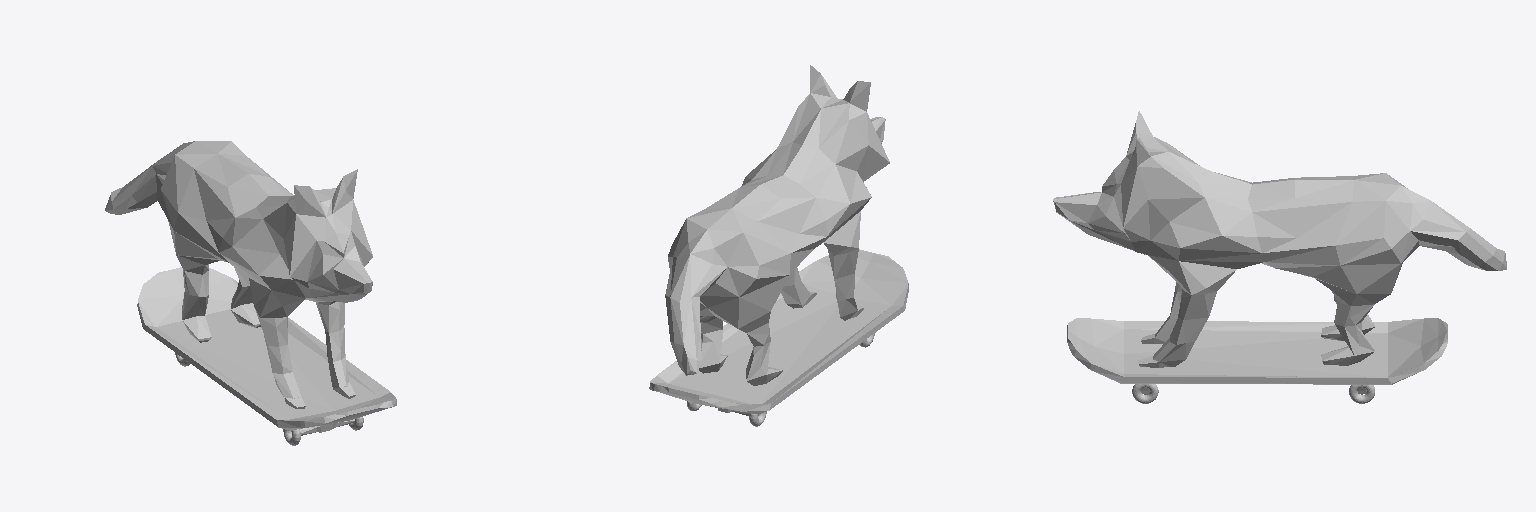
Rendered from WaschbaerSchritt4.obj.
3 renders of one model, left to right at view 1: azimuth 30°, elevation 25°; view 2: azimuth 150°, elevation 25°; view 3: azimuth 270°, elevation 25°, orthographic.
Visible parts, largest first — view 1: initialShadingGroup pCube1 polySurface1, initialShadingGroup pCube2 polySurface1; view 2: initialShadingGroup pCube1 polySurface1, initialShadingGroup pCube2 polySurface1; view 3: initialShadingGroup pCube1 polySurface1, initialShadingGroup pCube2 polySurface1.
Part boxes in pixels (left/top/right/bottom): initialShadingGroup pCube1 polySurface1: left=105, top=141, right=372, bottom=408; initialShadingGroup pCube2 polySurface1: left=137, top=267, right=396, bottom=435; initialShadingGroup pCube1 polySurface1: left=665, top=65, right=889, bottom=385; initialShadingGroup pCube2 polySurface1: left=649, top=249, right=908, bottom=415; initialShadingGroup pCube1 polySurface1: left=1053, top=111, right=1506, bottom=367; initialShadingGroup pCube2 polySurface1: left=1067, top=318, right=1447, bottom=394.
Size of the model in its own units: 3.58 by 7.88 by 12.27.